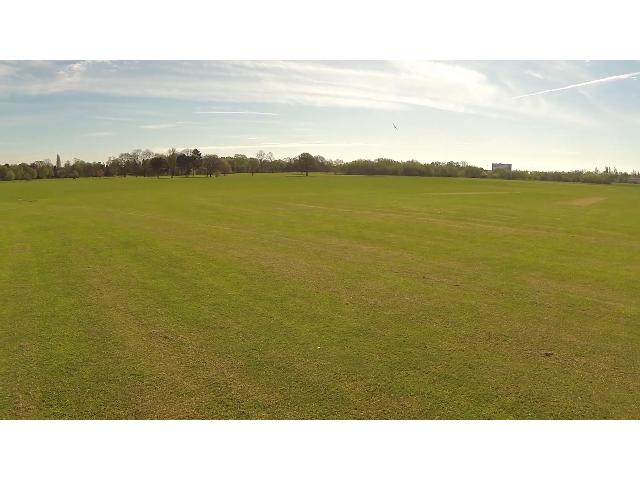Anti-Drone: (393, 122, 403, 134)
